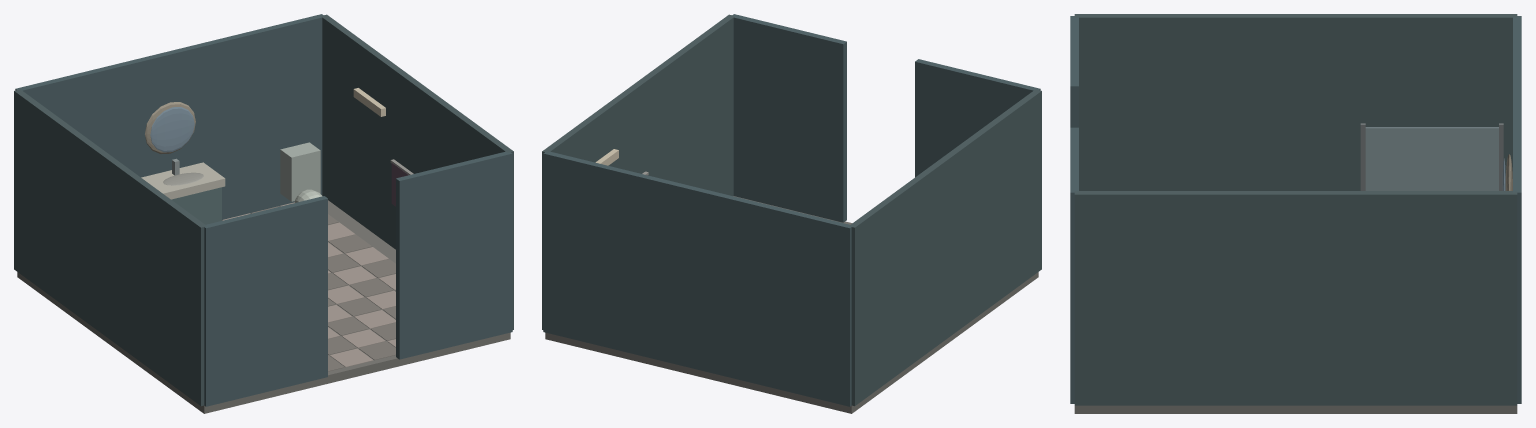
Rendered from banoNormalC2.obj.
3 views of the same model, side by side, from view 1: azimuth 30°, elevation 25°; view 2: azimuth 150°, elevation 25°; view 3: azimuth 270°, elevation 25° (orthographic). The views are drawn at different scales.
Parts seen in each view (by area): view 1: bathroom_original_10, bathroom_original_12, bathroom_original_13, bathroom_original_14, bathroom_original_11, bathroom_original_decor_000, bathroom_original_9, bathroom_original_17, bathroom_original_15; view 2: bathroom_original_12, bathroom_original_10, bathroom_original_14, bathroom_original_11, bathroom_original_13, bathroom_original_9, bathroom_original_decor_000; view 3: bathroom_original_11, bathroom_original_10, bathroom_original_decor_010, bathroom_original_9, bathroom_original_12, bathroom_original_14, bathroom_original_decor_000, bathroom_original_13.
Part boxes in pixels (<box>): bathroom_original_10: <box>14,89,206,406</box>; bathroom_original_12: <box>15,14,324,219</box>; bathroom_original_13: <box>203,196,327,406</box>; bathroom_original_14: <box>396,151,512,359</box>; bathroom_original_11: <box>321,14,513,329</box>; bathroom_original_decor_000: <box>141,88,413,371</box>; bathroom_original_9: <box>17,200,510,413</box>; bathroom_original_17: <box>280,142,320,201</box>; bathroom_original_15: <box>171,187,221,224</box>; bathroom_original_12: <box>543,151,852,406</box>; bathroom_original_10: <box>849,89,1041,406</box>; bathroom_original_14: <box>732,14,846,222</box>; bathroom_original_11: <box>542,14,734,329</box>; bathroom_original_13: <box>915,59,1040,177</box>; bathroom_original_9: <box>545,196,1038,413</box>; bathroom_original_decor_000: <box>544,149,850,405</box>; bathroom_original_11: <box>1074,191,1517,405</box>; bathroom_original_10: <box>1074,14,1517,190</box>; bathroom_original_decor_010: <box>1365,127,1498,190</box>; bathroom_original_9: <box>1074,405,1517,413</box>; bathroom_original_12: <box>1513,16,1521,403</box>; bathroom_original_14: <box>1070,127,1078,403</box>; bathroom_original_decor_000: <box>1360,123,1521,402</box>; bathroom_original_13: <box>1070,16,1078,127</box>.
Bounding box in the file's own units: 10.82 × 6.18 × 11.42.
